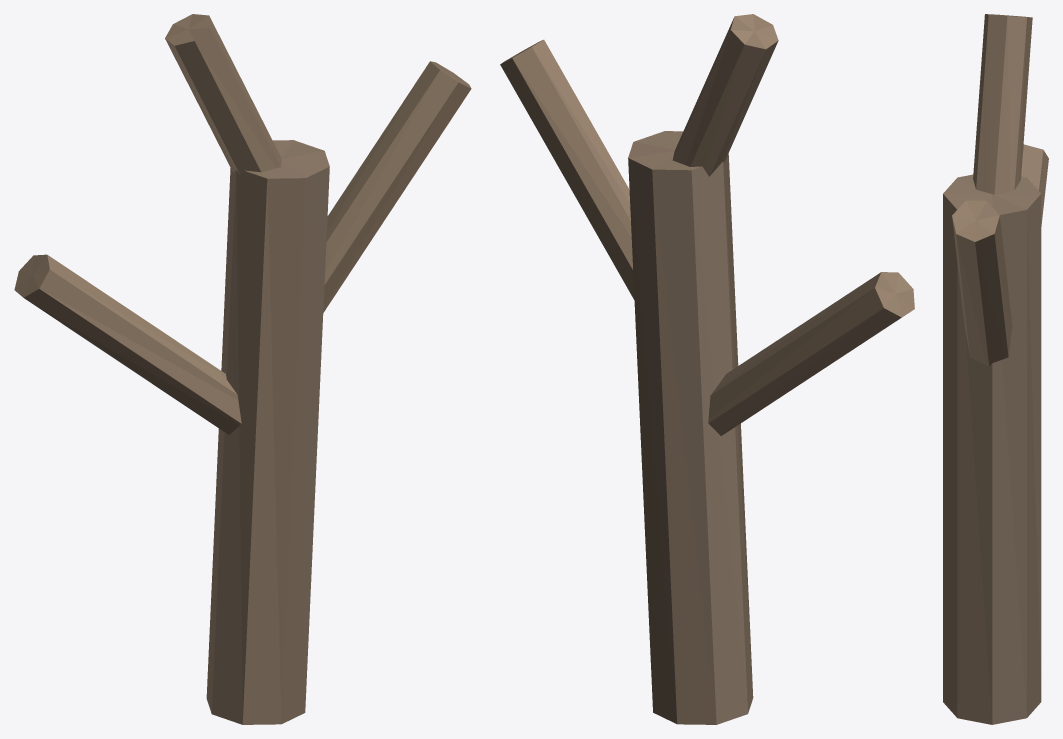
File: dead_desert_tree.glb
3 views of the same model, side by side, from view 1: azimuth 30°, elevation 25°; view 2: azimuth 150°, elevation 25°; view 3: azimuth 270°, elevation 25° (orthographic). The views are drawn at different scales.
Parts seen in each view (by area): view 1: trunk, branch_0, branch_1, branch_2; view 2: trunk, branch_0, branch_1, branch_2; view 3: trunk, branch_2, branch_1, branch_0.
Boxes of the visible parts, x1,y1,x2,y2 form: trunk: [206, 140, 329, 724]; branch_0: [14, 254, 241, 434]; branch_1: [323, 61, 471, 312]; branch_2: [165, 14, 281, 174]; trunk: [628, 131, 753, 724]; branch_0: [708, 272, 914, 435]; branch_1: [500, 39, 634, 300]; branch_2: [672, 14, 778, 176]; trunk: [943, 174, 1041, 724]; branch_2: [973, 14, 1032, 194]; branch_1: [952, 200, 1012, 366]; branch_0: [1021, 144, 1048, 226].
Size of the model in its own units: 0.8642 by 1.35 by 0.194.
